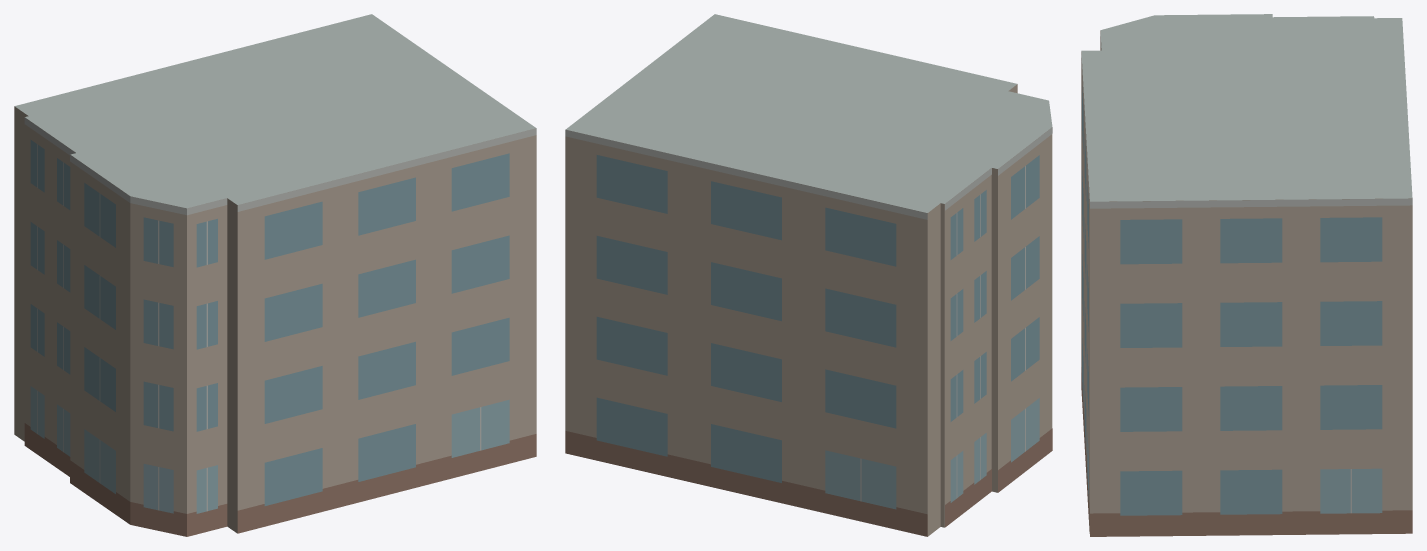
Rendered from survey-upis-32528208.glb.
The picture shows the model from 3 angles, left to right: view 1: azimuth 30°, elevation 25°; view 2: azimuth 150°, elevation 25°; view 3: azimuth 270°, elevation 25°; orthographic projection. The views are drawn at different scales.
Parts seen in each view (by area): view 1: survey-upis-32528208.tmp; view 2: survey-upis-32528208.tmp; view 3: survey-upis-32528208.tmp.
Boxes of the visible parts, bbox=[...] form: survey-upis-32528208.tmp: bbox=[14, 14, 536, 536]; survey-upis-32528208.tmp: bbox=[565, 14, 1052, 536]; survey-upis-32528208.tmp: bbox=[1081, 14, 1412, 536].
Size of the model in its own units: 13.93 by 11.6 by 10.4.
